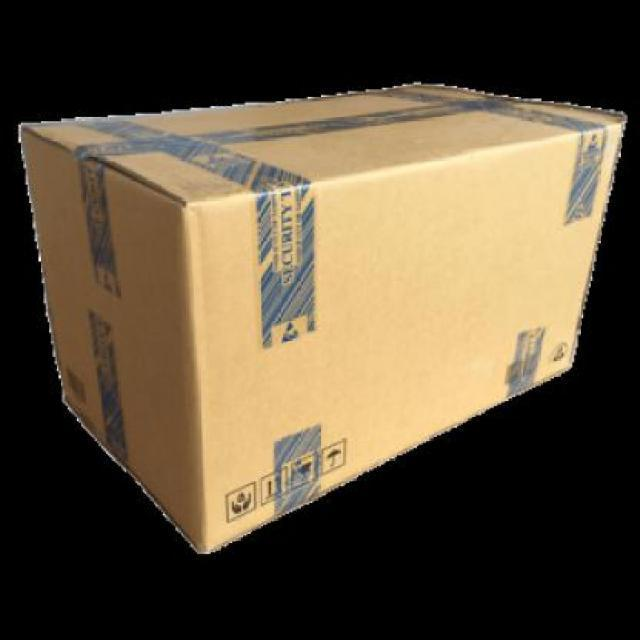box: (20, 82, 612, 552)
